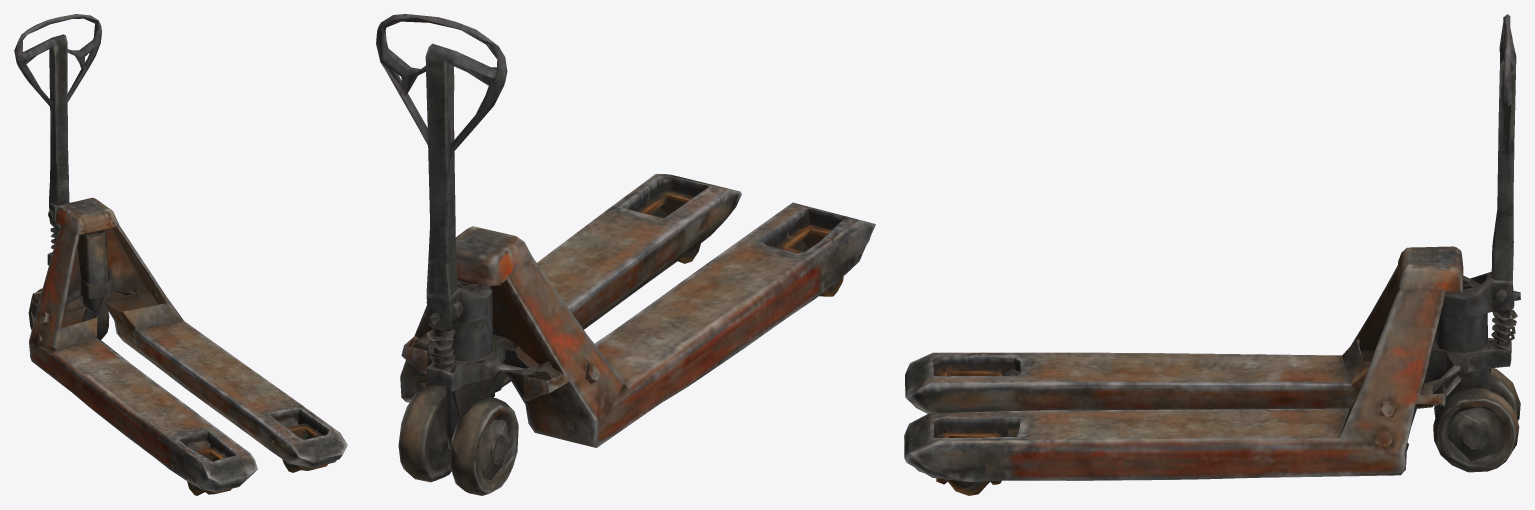
The model's file is p7-pallet-jack.glb.
The picture shows the model from 3 angles, left to right: view 1: azimuth 30°, elevation 25°; view 2: azimuth 150°, elevation 25°; view 3: azimuth 270°, elevation 25°; orthographic projection. The views are drawn at different scales.
Parts seen in each view (by area): view 1: p7-pallet-jack; view 2: p7-pallet-jack; view 3: p7-pallet-jack.
Part boxes in pixels (x1,y1,x2,y2): p7-pallet-jack: [14, 14, 347, 495]; p7-pallet-jack: [376, 14, 875, 495]; p7-pallet-jack: [904, 14, 1520, 495].
Bounding box in the file's own units: 0.55 × 1.2 × 1.55.
Materials: 1 (1 with a texture image).
